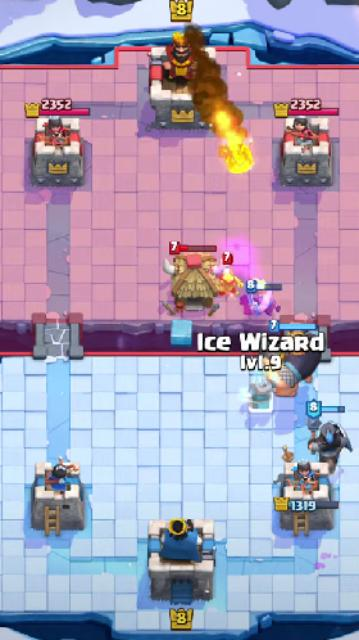ally_melee: (269, 319, 320, 398), (305, 400, 355, 473), (246, 278, 284, 317)
enemy_building: (165, 241, 217, 312)
enemy_melee: (219, 252, 243, 297)
